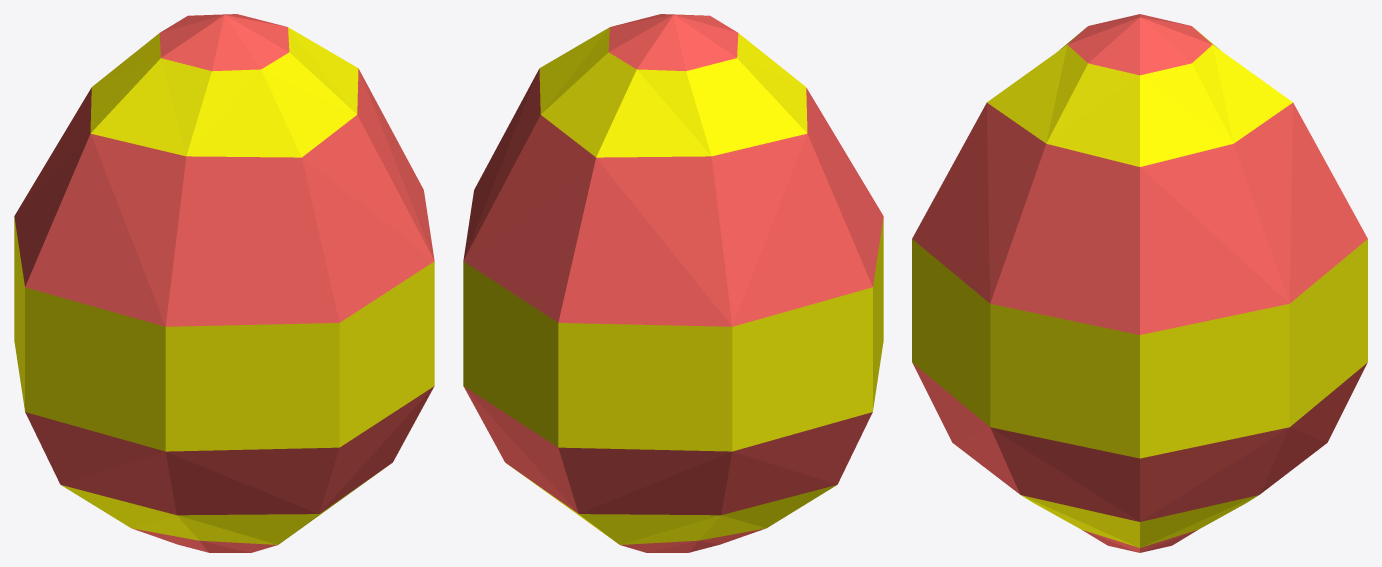
Rendered from Egg.obj.
3 renders of one model, left to right at view 1: azimuth 30°, elevation 25°; view 2: azimuth 150°, elevation 25°; view 3: azimuth 270°, elevation 25°, orthographic.
Visible parts, largest first — view 1: 立方体; view 2: 立方体; view 3: 立方体.
Part boxes in pixels (box(x1,y1,x2,y2)): 立方体: box(14, 14, 434, 552); 立方体: box(463, 14, 883, 552); 立方体: box(912, 14, 1367, 552).
Bounding box in the file's own units: 2 × 2.48 × 2.
1 material, 1 textured.
